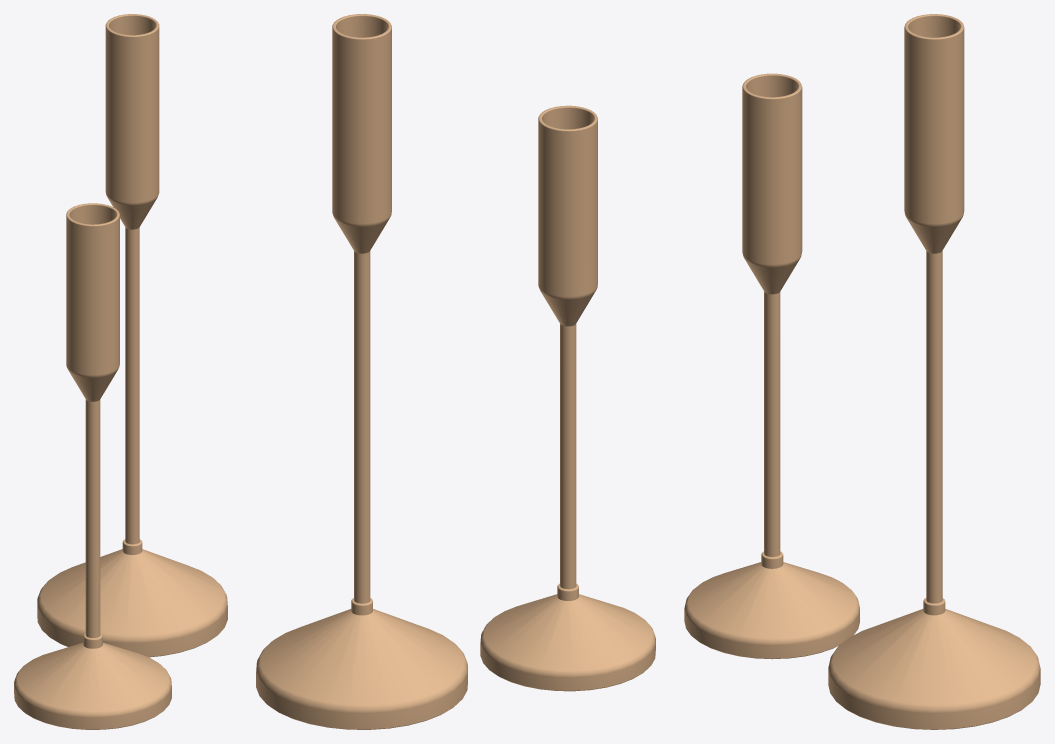
The model's file is Candlestick.FBX.
3 renders of one model, left to right at view 1: azimuth 30°, elevation 25°; view 2: azimuth 150°, elevation 25°; view 3: azimuth 270°, elevation 25°, orthographic. The views are drawn at different scales.
Parts seen in each view (by area): view 1: SM_Candlestick; view 2: SM_Candlestick; view 3: SM_Candlestick.
Boxes of the visible parts, bbox=[...] form: SM_Candlestick: bbox=[14, 14, 227, 729]; SM_Candlestick: bbox=[256, 14, 655, 729]; SM_Candlestick: bbox=[684, 14, 1040, 729].
Bounding box in the file's own units: 13.41 × 28.85 × 14.12.
